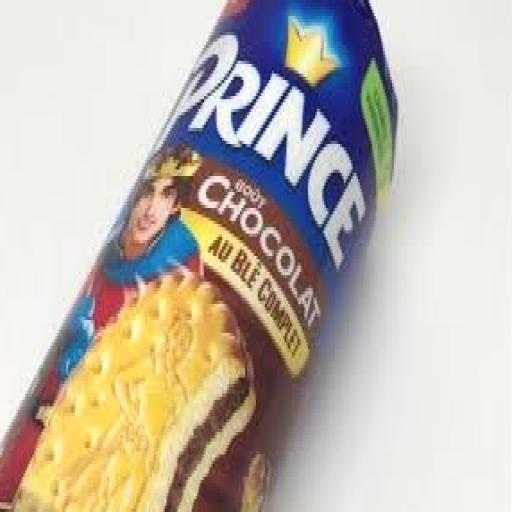prince: (6, 0, 406, 512)
